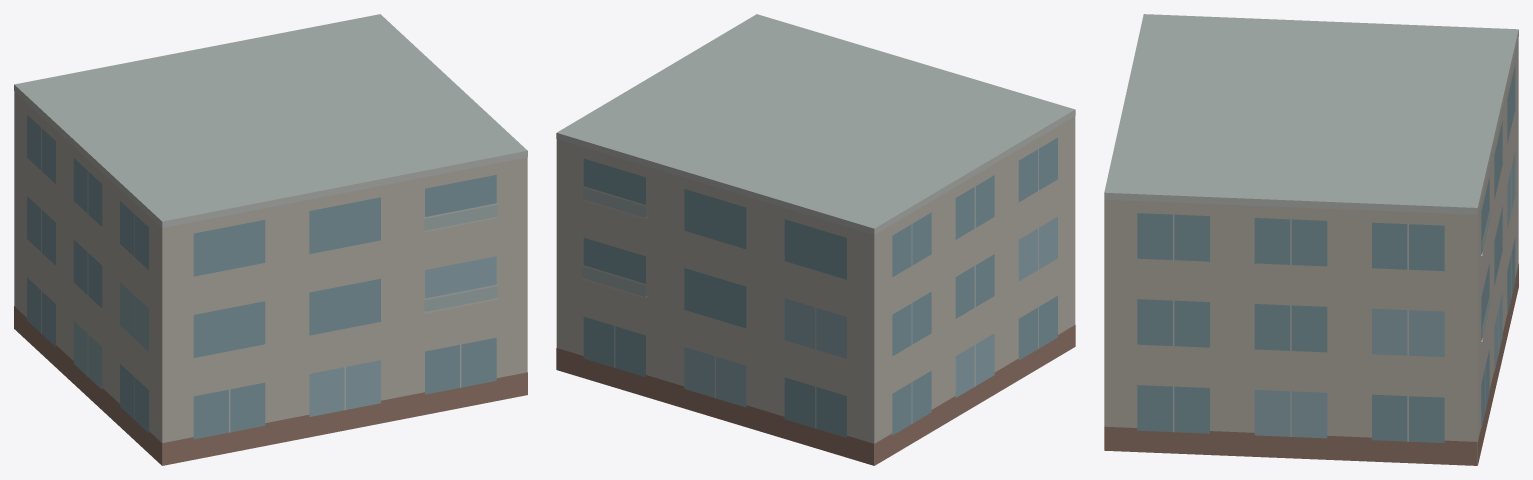
Rendered from survey-upis-32956695.glb.
The picture shows the model from 3 angles, left to right: view 1: azimuth 30°, elevation 25°; view 2: azimuth 150°, elevation 25°; view 3: azimuth 270°, elevation 25°; orthographic projection. The views are drawn at different scales.
Parts seen in each view (by area): view 1: survey-upis-32956695.tmp; view 2: survey-upis-32956695.tmp; view 3: survey-upis-32956695.tmp.
Part boxes in pixels (x1,y1,x2,y2): survey-upis-32956695.tmp: [14, 14, 527, 465]; survey-upis-32956695.tmp: [556, 14, 1075, 465]; survey-upis-32956695.tmp: [1104, 14, 1518, 465].
Bounding box in the file's own units: 14.76 × 9.15 × 13.34.
